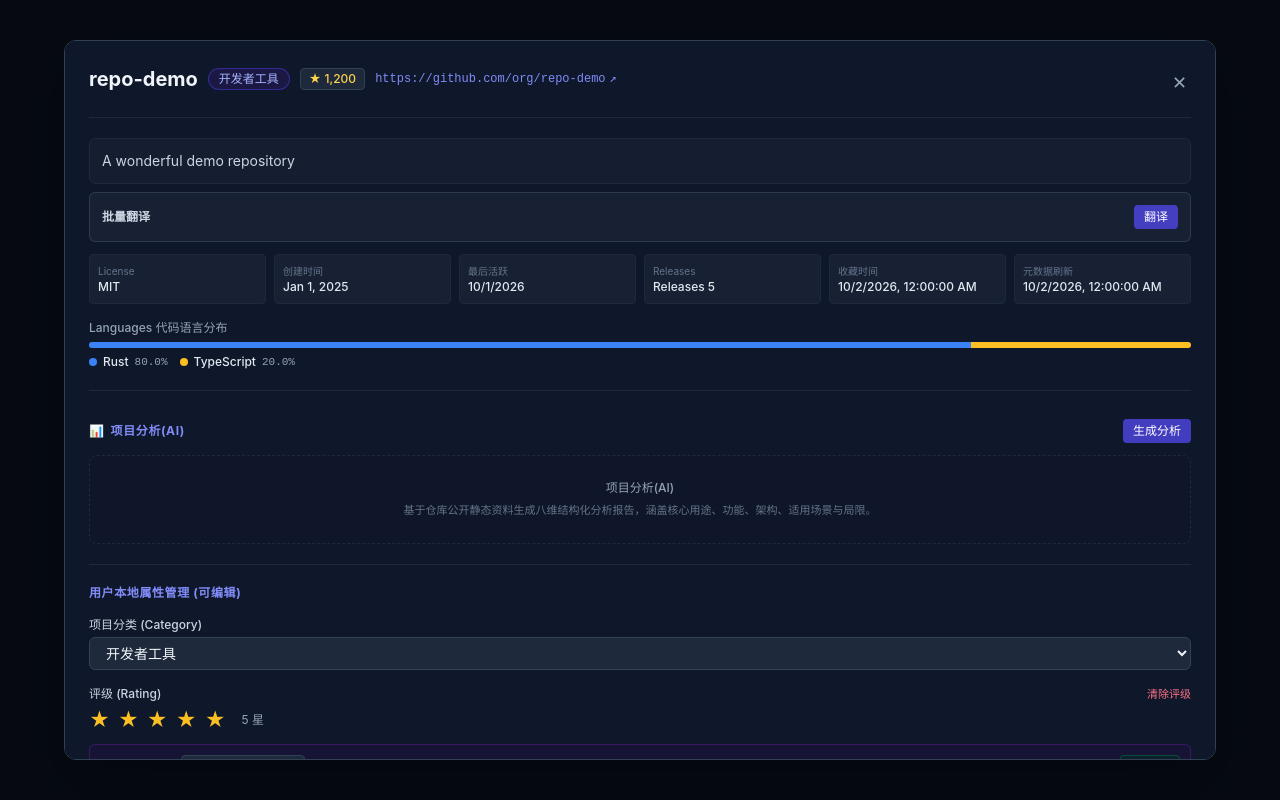
Test: S3 Repository Analysis Frontend Suites › FavoriteDetailModal Analysis Draft & Concurrency › handles AC090 post-commit sync failure with distinct UI and controlled reread
The image size is (1280, 800).
Click the button with test id "detail-analyze-btn".
click(1157, 431)  # box [1123, 419, 1191, 443]
(page scrolled)
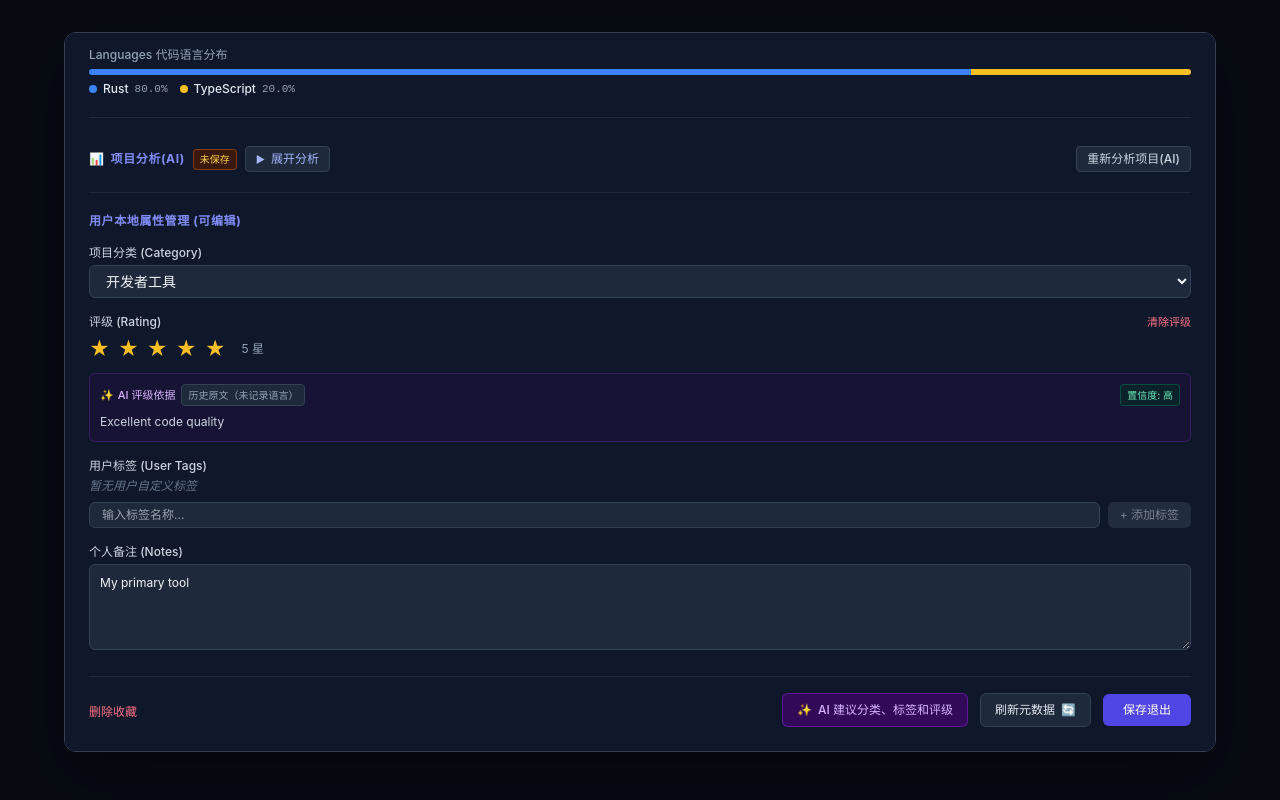
Expected: the text "未保存" is shown, [193, 148, 237, 170]
# Save changes
Click the button with test id "detail-save-btn".
click(1147, 710)  # box [1103, 694, 1191, 726]
(page scrolled)
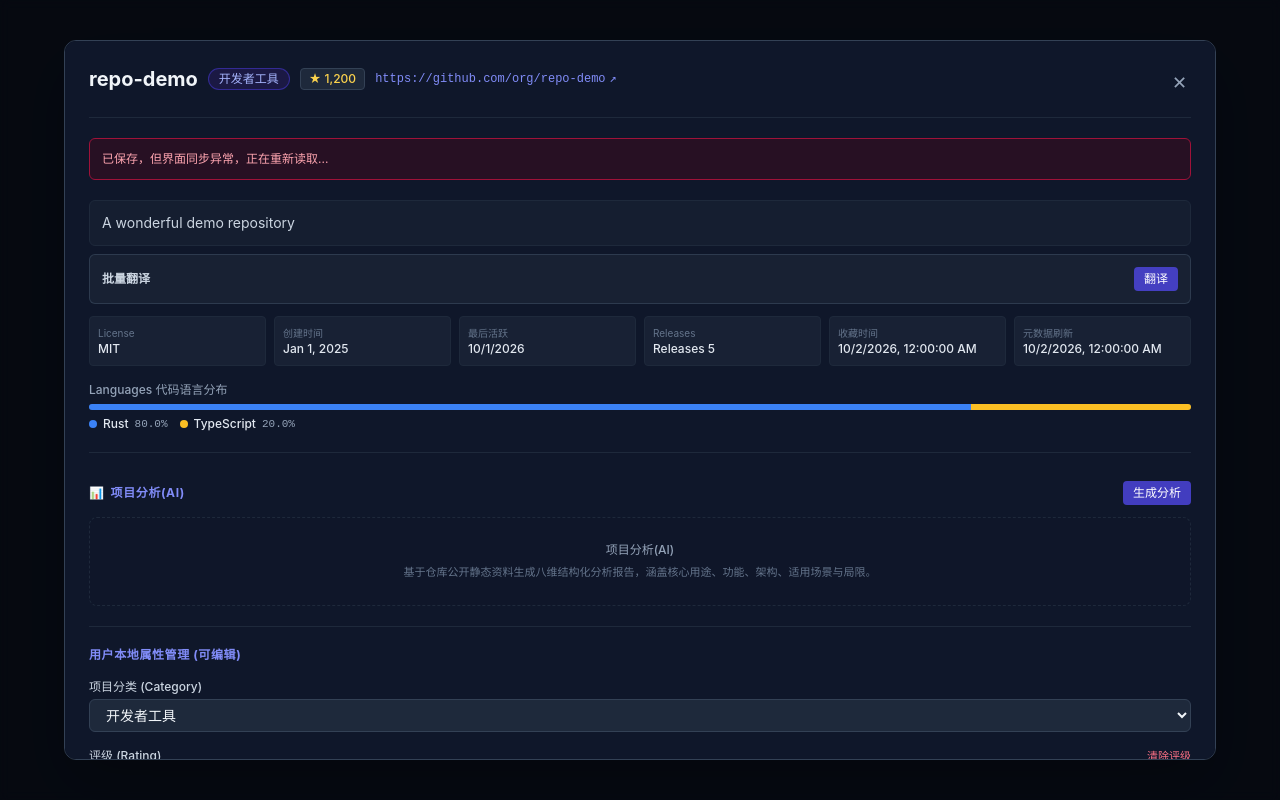
Expected: the text "已保存，但界面同步异常，正在重新读取..." is shown, [89, 138, 1191, 180]
Expected: the text with test id "detail-feedback-banner" reads "已保存，但界面同步异常，正在重新读取...", [102, 151, 328, 166]
